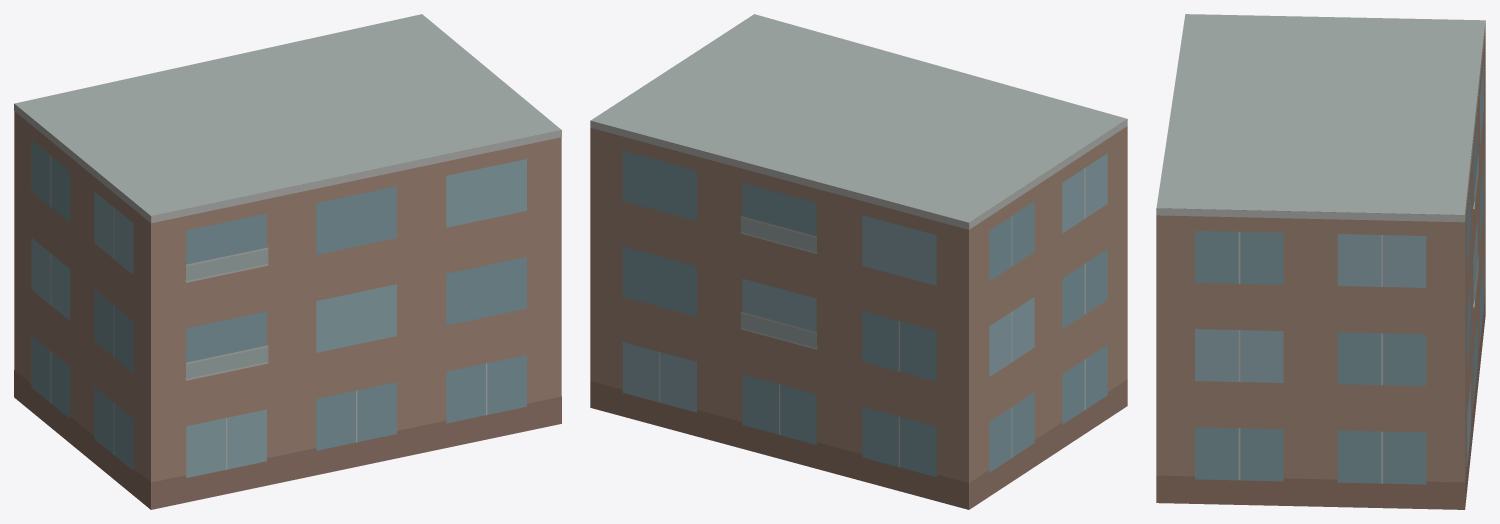
Rendered from survey-upis-32685461.glb.
3 views of the same model, side by side, from view 1: azimuth 30°, elevation 25°; view 2: azimuth 150°, elevation 25°; view 3: azimuth 270°, elevation 25° (orthographic). The views are drawn at different scales.
Visible parts, largest first — view 1: survey-upis-32685461.tmp; view 2: survey-upis-32685461.tmp; view 3: survey-upis-32685461.tmp.
Part boxes in pixels (bbox=[...]): survey-upis-32685461.tmp: bbox=[14, 14, 561, 509]; survey-upis-32685461.tmp: bbox=[590, 14, 1127, 509]; survey-upis-32685461.tmp: bbox=[1156, 14, 1485, 509].
Bounding box in the file's own units: 14.41 × 9.85 × 9.97.
